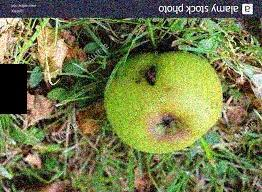rotten apple: (100, 51, 224, 158)
